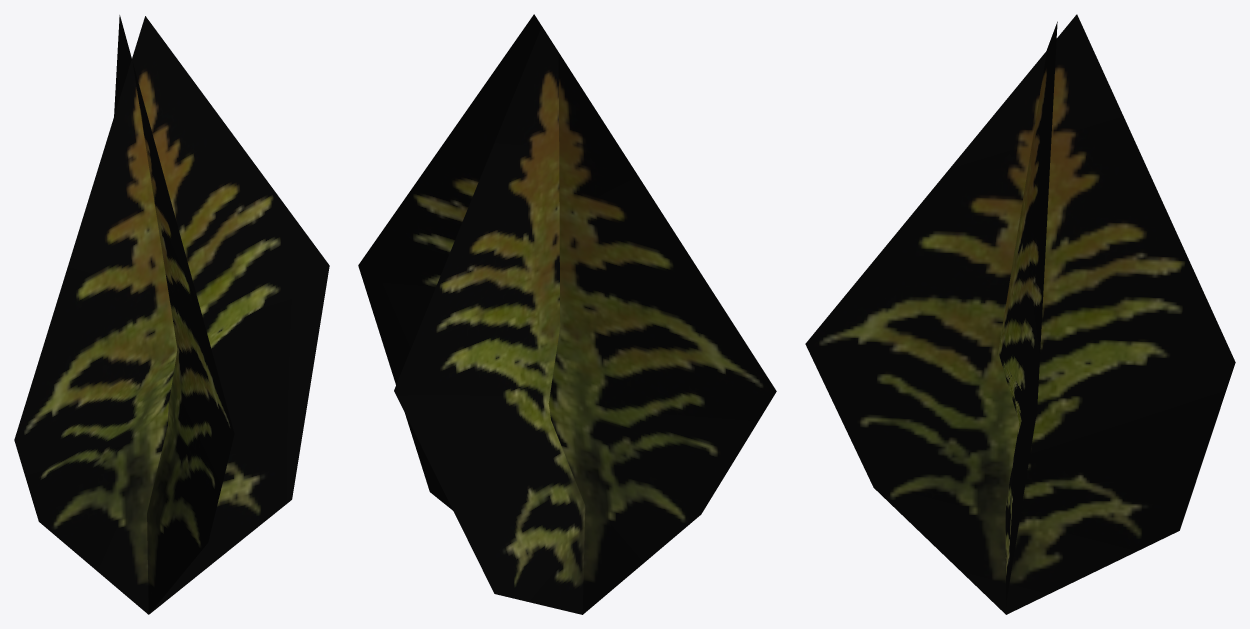
The model's file is moss_01_e.glb.
3 views of the same model, side by side, from view 1: azimuth 30°, elevation 25°; view 2: azimuth 150°, elevation 25°; view 3: azimuth 270°, elevation 25° (orthographic). The views are drawn at different scales.
Parts seen in each view (by area): view 1: moss_01_b_LOD0; view 2: moss_01_b_LOD0; view 3: moss_01_b_LOD0.
Boxes of the visible parts, box(x1,y1,x2,y2) form: moss_01_b_LOD0: box(14, 15, 329, 614); moss_01_b_LOD0: box(358, 14, 776, 614); moss_01_b_LOD0: box(805, 14, 1235, 614).
Bounding box in the file's own units: 0.00949 × 0.0148 × 0.00953.
1 material, 1 textured.
